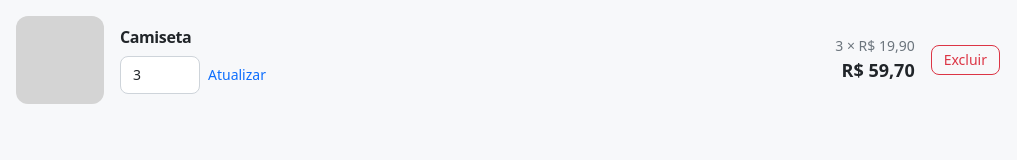
Test: CartItemRow › mostra erro genérico se a rede falhar
What coordinates should you click on to do the following:
click the button with aria-label "Excluir Camiseta"
I would click on:
 (965, 60)
Its box is [931,45,1000,75].
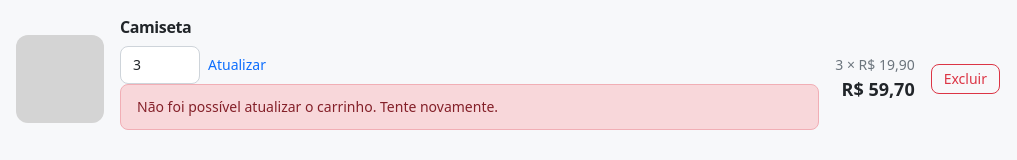
Expected: the message shows "Não foi possível", [137,97,498,116]
